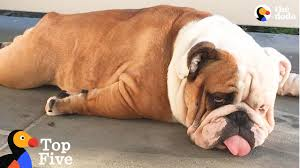Bulldog: (36, 10, 300, 156)
